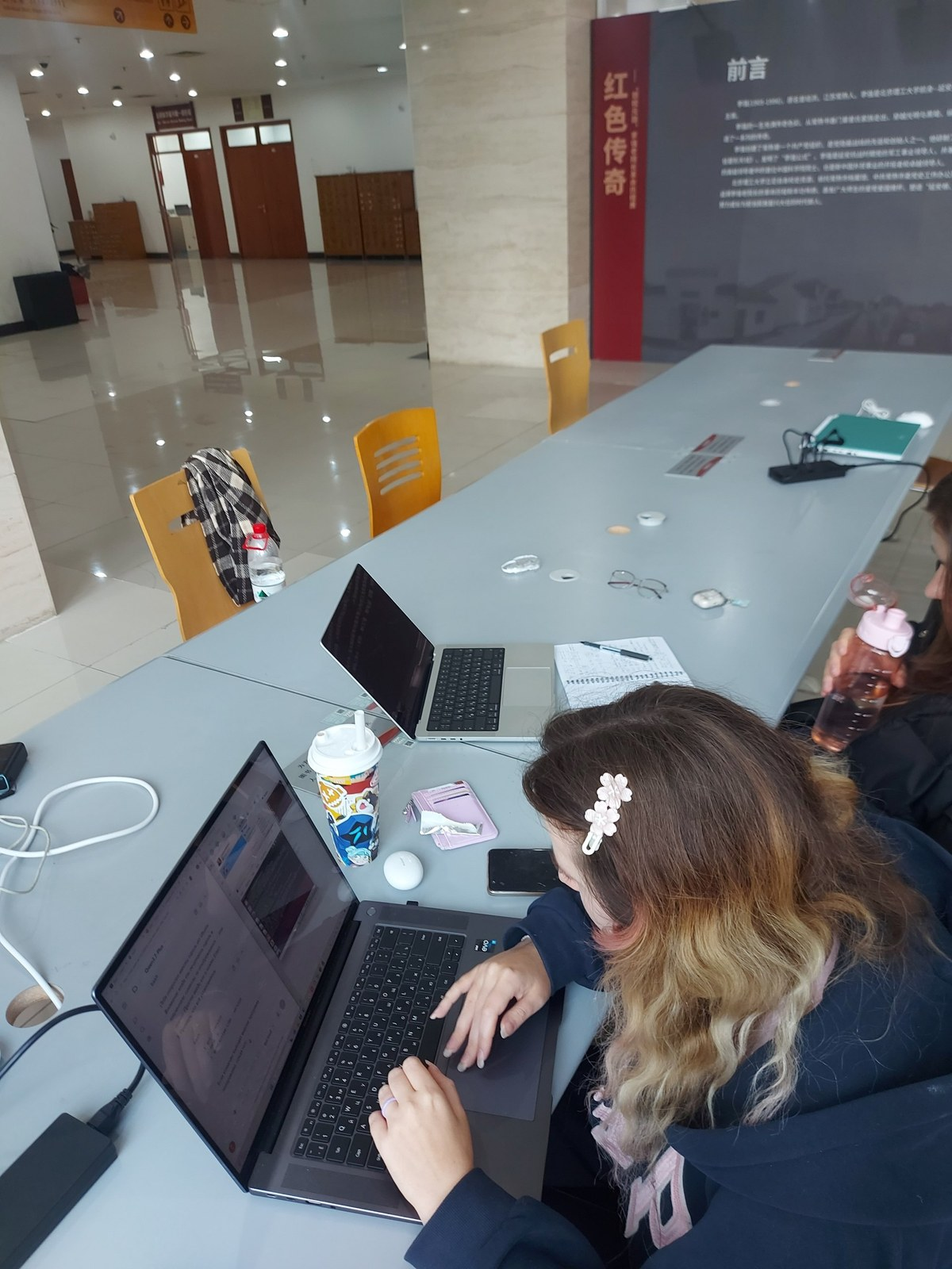cell phone: (487, 847, 561, 895)
laptop: (91, 739, 563, 1224), (320, 562, 571, 743)
